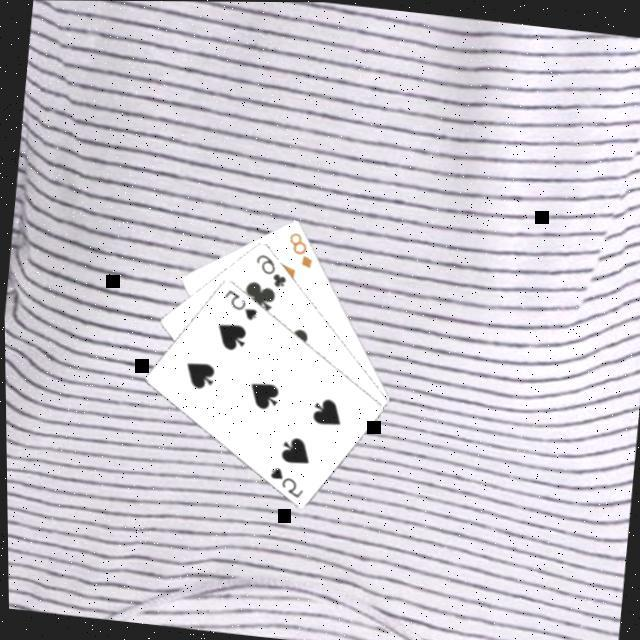5S: (260, 462, 304, 500), (216, 286, 259, 324)
6C: (247, 250, 289, 290)
8D: (279, 228, 316, 271)
